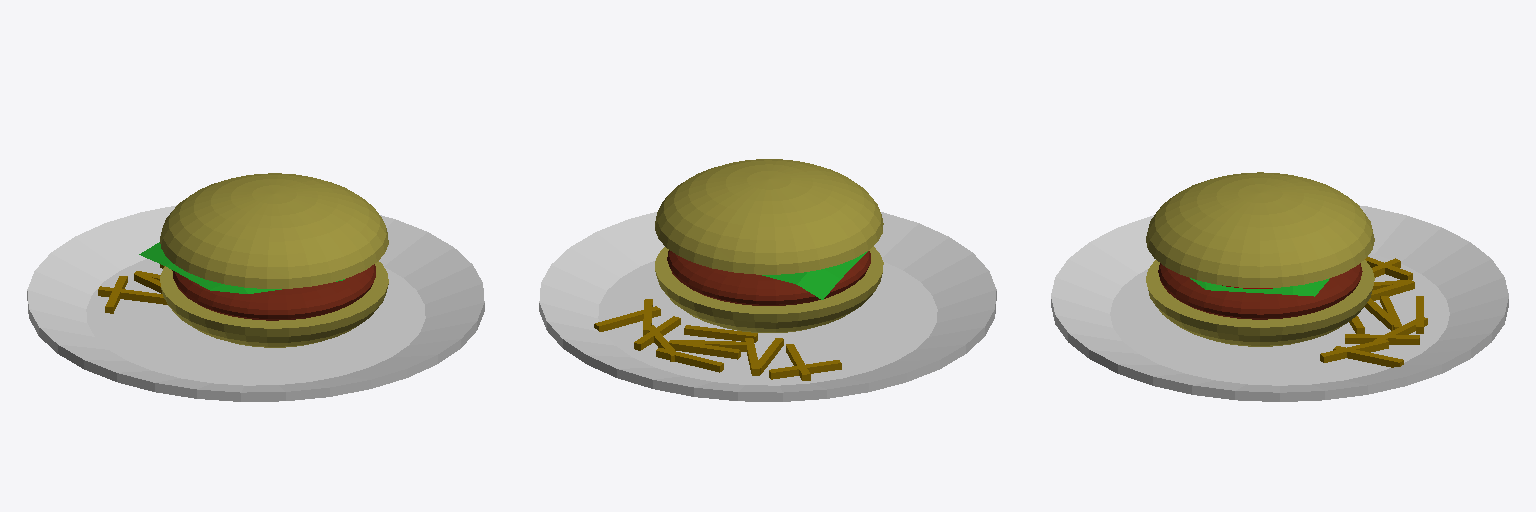
The model's file is burger.obj.
3 renders of one model, left to right at view 1: azimuth 30°, elevation 25°; view 2: azimuth 150°, elevation 25°; view 3: azimuth 270°, elevation 25°, orthographic.
Visible parts, largest first — view 1: Sphere_Sphere.001; view 2: Sphere_Sphere.001; view 3: Sphere_Sphere.001.
Part boxes in pixels (x1,y1,x2,y2): Sphere_Sphere.001: (27,173,484,401); Sphere_Sphere.001: (539,159,996,401); Sphere_Sphere.001: (1051,172,1508,401).
Bounding box in the file's own units: 0.1617 × 0.0525 × 0.1617.